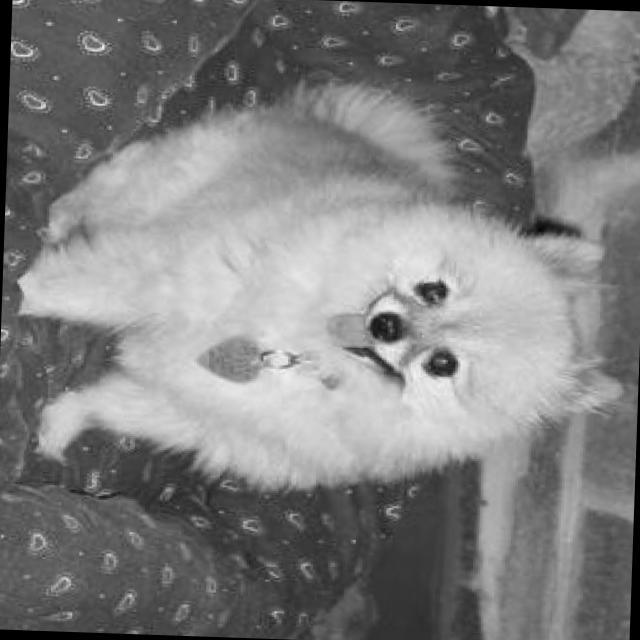sitting: (11, 66, 632, 507)
